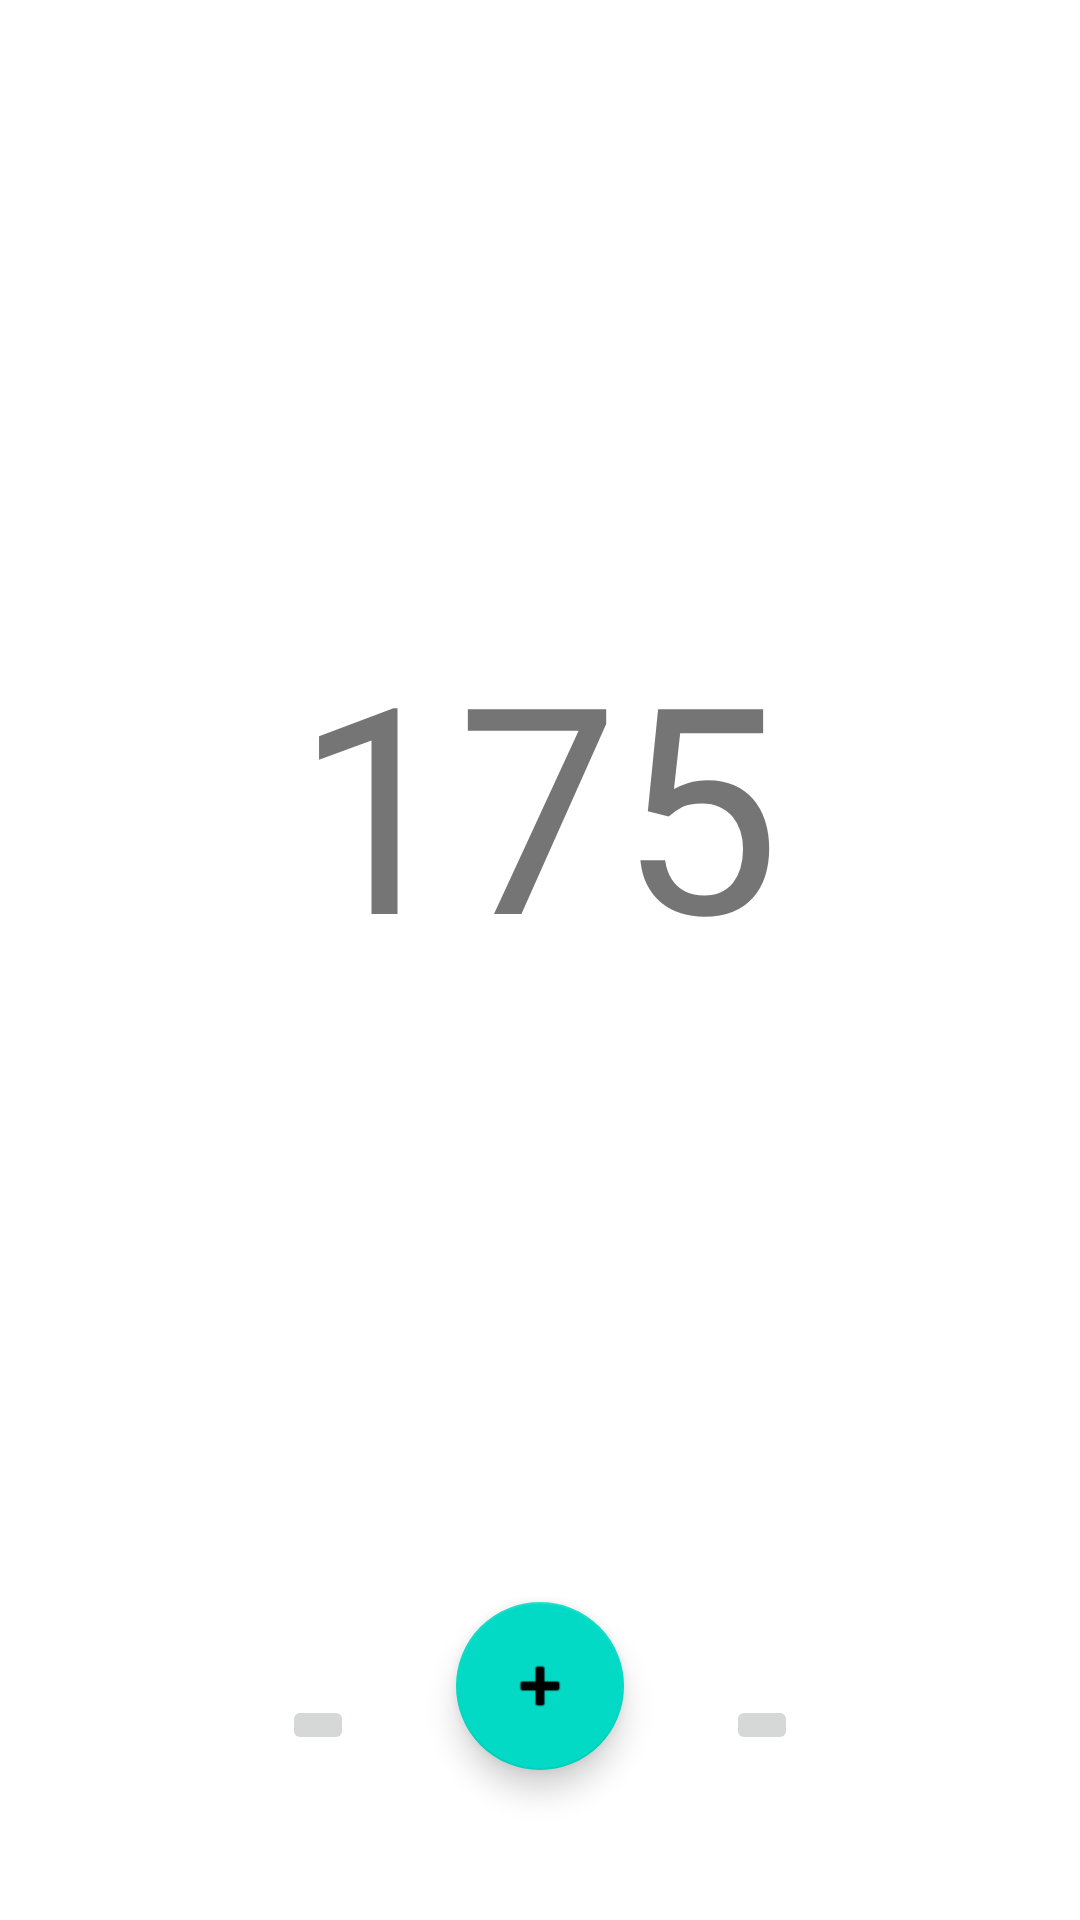

Named icons in this screenshot (1080w x 1920h) and their centers, point (x, y):
add: point (540, 1686)
